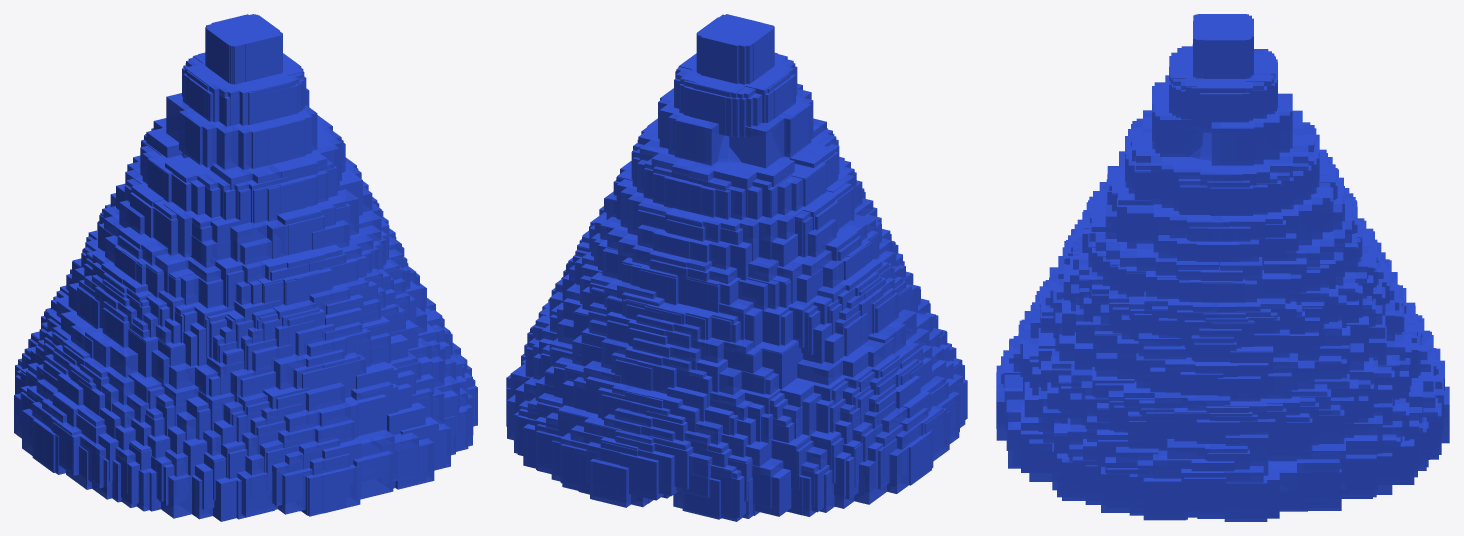
File: WindStoneDust.fbx
3 renders of one model, left to right at view 1: azimuth 30°, elevation 25°; view 2: azimuth 150°, elevation 25°; view 3: azimuth 270°, elevation 25°, orthographic.
Parts seen in each view (by area): view 1: WindStoneDust|Cube.005|Dupli|1254, WindStoneDust|Cube.005|Dupli|6, WindStoneDust|Cube.005|Dupli|349, WindStoneDust|Cube.005|Dupli|261, WindStoneDust|Cube.005|Dupli|1196, WindStoneDust|Cube.005|Dupli|53, WindStoneDust|Cube.005|Dupli|728, WindStoneDust|Cube.005|Dupli|424, WindStoneDust|Cube.005|Dupli|1470, WindStoneDust|Cube.005|Dupli|343, WindStoneDust|Cube.005|Dupli|677, WindStoneDust|Cube.005|Dupli|359 (+79 smaller); view 2: WindStoneDust|Cube.005|Dupli|1352, WindStoneDust|Cube.005|Dupli|1404, WindStoneDust|Cube.005|Dupli|214, WindStoneDust|Cube.005|Dupli|588, WindStoneDust|Cube.005|Dupli|6, WindStoneDust|Cube.005|Dupli|218, WindStoneDust|Cube.005|Dupli|728, WindStoneDust|Cube.005|Dupli|1607, WindStoneDust|Cube.005|Dupli|60, WindStoneDust|Cube.005|Dupli|521, WindStoneDust|Cube.005|Dupli|1066, WindStoneDust|Cube.005|Dupli|193 (+73 smaller); view 3: WindStoneDust|Cube.005|Dupli|52, WindStoneDust|Cube.005|Dupli|469, WindStoneDust|Cube.005|Dupli|890, WindStoneDust|Cube.005|Dupli|1619, WindStoneDust|Cube.005|Dupli|202, WindStoneDust|Cube.005|Dupli|1418, WindStoneDust|Cube.005|Dupli|1248, WindStoneDust|Cube.005|Dupli|1451, WindStoneDust|Cube.005|Dupli|833, WindStoneDust|Cube.005|Dupli|519, WindStoneDust|Cube.005|Dupli|684, WindStoneDust|Cube.005|Dupli|1606 (+73 smaller).
Boxes of the visible parts, box(x1,y1,x2,y2) form: WindStoneDust|Cube.005|Dupli|1254: box(236, 21, 282, 81); WindStoneDust|Cube.005|Dupli|6: box(208, 21, 264, 83); WindStoneDust|Cube.005|Dupli|349: box(322, 464, 360, 513); WindStoneDust|Cube.005|Dupli|261: box(353, 450, 393, 499); WindStoneDust|Cube.005|Dupli|1196: box(249, 123, 289, 168); WindStoneDust|Cube.005|Dupli|53: box(237, 471, 277, 516); WindStoneDust|Cube.005|Dupli|728: box(179, 109, 218, 164); WindStoneDust|Cube.005|Dupli|424: box(267, 180, 305, 221); WindStoneDust|Cube.005|Dupli|1470: box(393, 432, 418, 481); WindStoneDust|Cube.005|Dupli|343: box(345, 394, 386, 436); WindStoneDust|Cube.005|Dupli|677: box(278, 468, 312, 514); WindStoneDust|Cube.005|Dupli|359: box(262, 84, 298, 121); WindStoneDust|Cube.005|Dupli|1352: box(729, 116, 784, 168); WindStoneDust|Cube.005|Dupli|1404: box(675, 115, 723, 165); WindStoneDust|Cube.005|Dupli|214: box(700, 22, 757, 83); WindStoneDust|Cube.005|Dupli|588: box(590, 458, 630, 507); WindStoneDust|Cube.005|Dupli|6: box(717, 20, 774, 81); WindStoneDust|Cube.005|Dupli|218: box(620, 453, 663, 500); WindStoneDust|Cube.005|Dupli|728: box(778, 100, 811, 157); WindStoneDust|Cube.005|Dupli|1607: box(689, 87, 725, 135); WindStoneDust|Cube.005|Dupli|60: box(677, 182, 715, 217); WindStoneDust|Cube.005|Dupli|521: box(560, 443, 589, 489); WindStoneDust|Cube.005|Dupli|1066: box(762, 342, 802, 389); WindStoneDust|Cube.005|Dupli|193: box(711, 162, 761, 216); WindStoneDust|Cube.005|Dupli|52: box(1211, 118, 1254, 165); WindStoneDust|Cube.005|Dupli|469: box(1184, 477, 1226, 517); WindStoneDust|Cube.005|Dupli|890: box(1204, 22, 1246, 78); WindStoneDust|Cube.005|Dupli|1619: box(1143, 478, 1186, 520); WindStoneDust|Cube.005|Dupli|202: box(1224, 480, 1267, 521); WindStoneDust|Cube.005|Dupli|1418: box(1297, 459, 1339, 501); WindStoneDust|Cube.005|Dupli|1248: box(1160, 103, 1202, 156); WindStoneDust|Cube.005|Dupli|1451: box(1200, 93, 1242, 132); WindStoneDust|Cube.005|Dupli|833: box(1341, 454, 1376, 497); WindStoneDust|Cube.005|Dupli|519: box(1268, 466, 1307, 511); WindStoneDust|Cube.005|Dupli|684: box(1210, 185, 1252, 215); WindStoneDust|Cube.005|Dupli|1606: box(1270, 418, 1312, 461).
Size of what is drawn, in the model's own units: 1.06 by 1.04 by 1.07.
